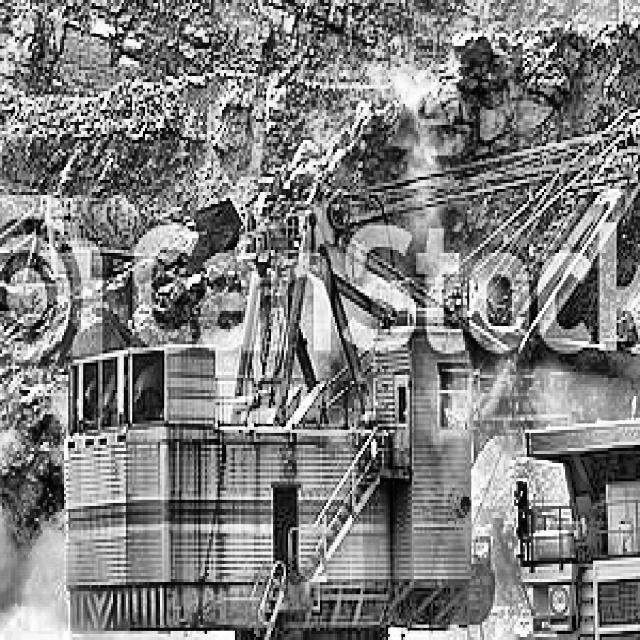dump_truck: (516, 384, 640, 640)
